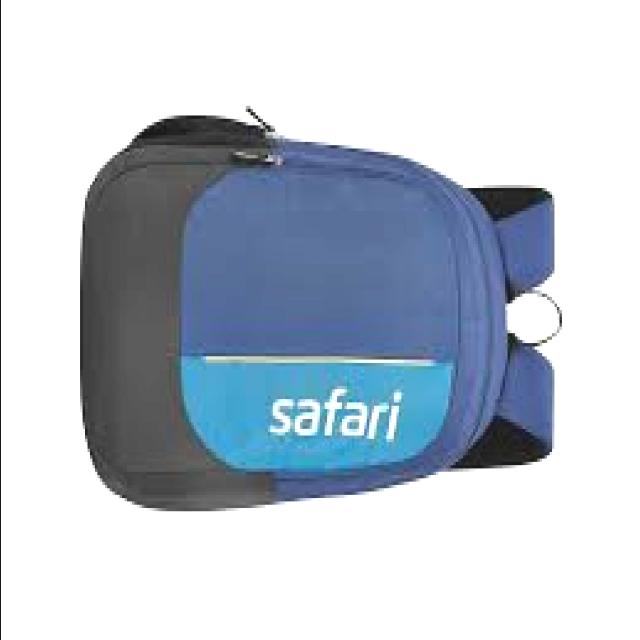backpack: (80, 107, 564, 513)
